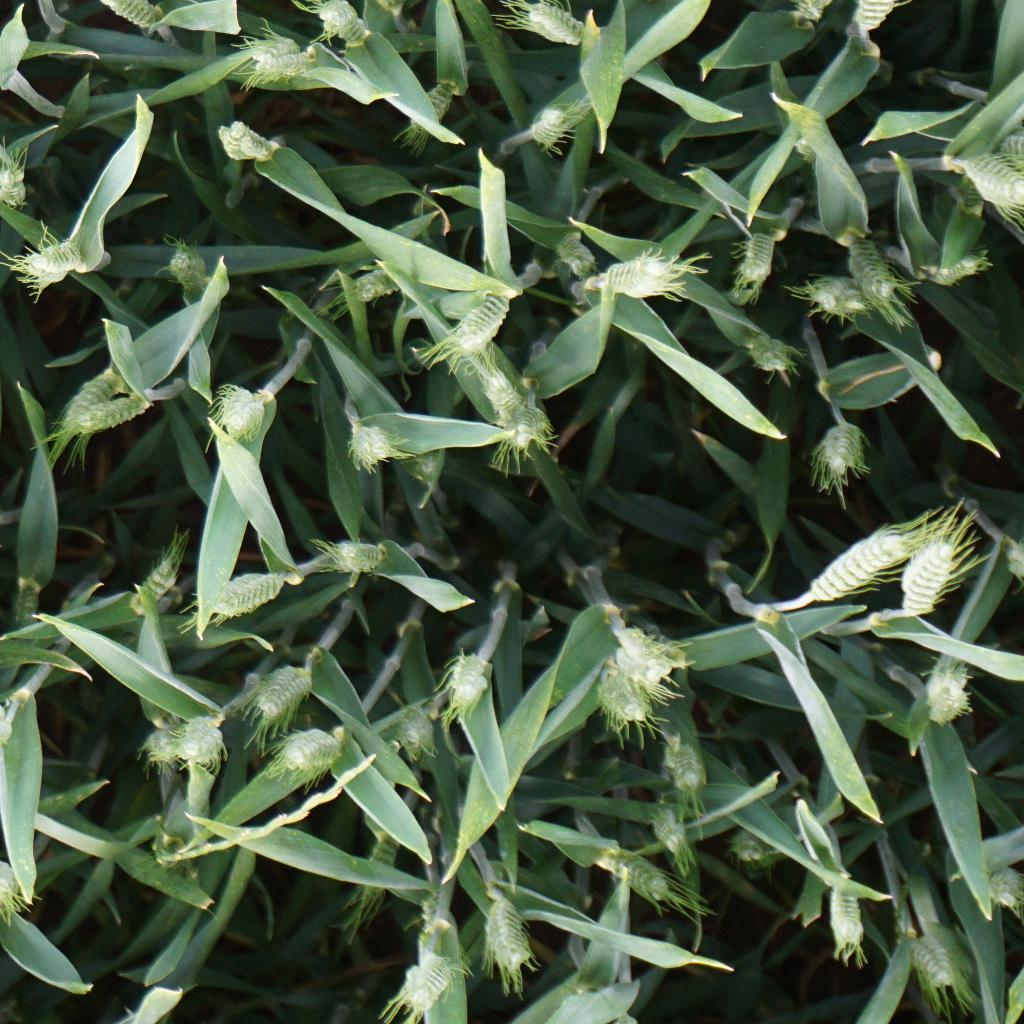0-0: (799, 507, 936, 603), (192, 557, 301, 633), (892, 530, 973, 630), (832, 215, 903, 326), (428, 287, 524, 368), (43, 365, 131, 450), (352, 814, 421, 920), (567, 649, 656, 731), (576, 243, 691, 305), (572, 841, 678, 905), (62, 380, 165, 442), (899, 909, 965, 1000), (942, 147, 1024, 217), (249, 657, 323, 731), (206, 374, 271, 458), (479, 892, 538, 983), (503, 0, 599, 54), (603, 617, 682, 682), (795, 261, 881, 320), (397, 71, 461, 148), (387, 957, 466, 1019), (496, 406, 572, 470), (10, 233, 92, 292), (266, 723, 347, 780), (244, 39, 331, 92), (918, 662, 984, 731), (119, 557, 190, 620), (908, 249, 999, 298), (456, 350, 516, 423), (523, 96, 599, 152), (171, 707, 232, 775), (305, 0, 380, 54), (342, 259, 423, 308), (815, 422, 870, 493), (822, 872, 866, 957), (732, 228, 784, 293), (545, 221, 602, 280), (449, 653, 500, 716), (658, 734, 713, 792), (382, 709, 447, 757), (321, 536, 399, 576), (160, 245, 212, 302), (345, 413, 396, 470), (745, 331, 802, 382), (80, 1, 168, 34), (971, 860, 1024, 912), (226, 120, 289, 163), (848, 0, 907, 43), (649, 809, 694, 865), (140, 721, 193, 767), (209, 124, 254, 169), (0, 153, 34, 212), (730, 825, 774, 864), (996, 132, 1024, 185)
